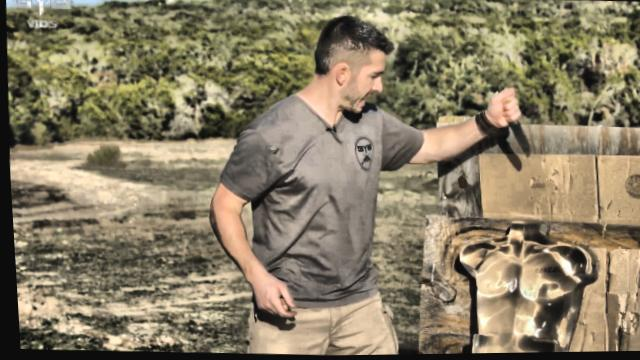knife: (489, 87, 535, 158)
